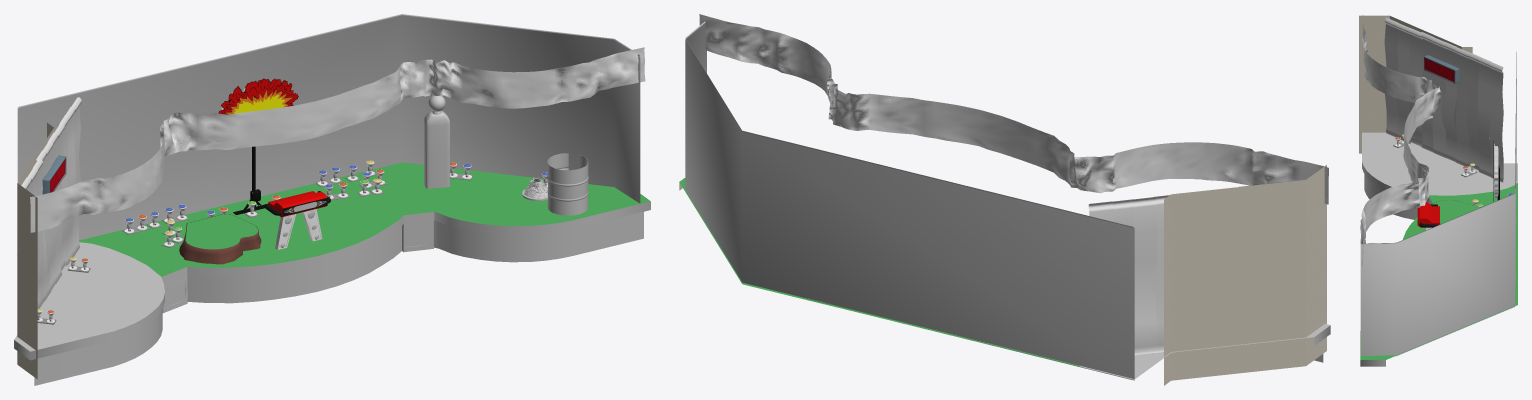
Rendered from NormalShow.fbx.
3 renders of one model, left to right at view 1: azimuth 30°, elevation 25°; view 2: azimuth 150°, elevation 25°; view 3: azimuth 270°, elevation 25°, orthographic. The views are drawn at different scales.
Parts seen in each view (by area): view 1: Circle.030; view 2: Circle.030; view 3: Circle.030.
Boxes of the visible parts, x1,y1,x2,y2 form: Circle.030: (14, 14, 650, 385); Circle.030: (679, 14, 1330, 385); Circle.030: (1359, 15, 1517, 366).
Bounding box in the file's own units: 796 × 236 × 233.
